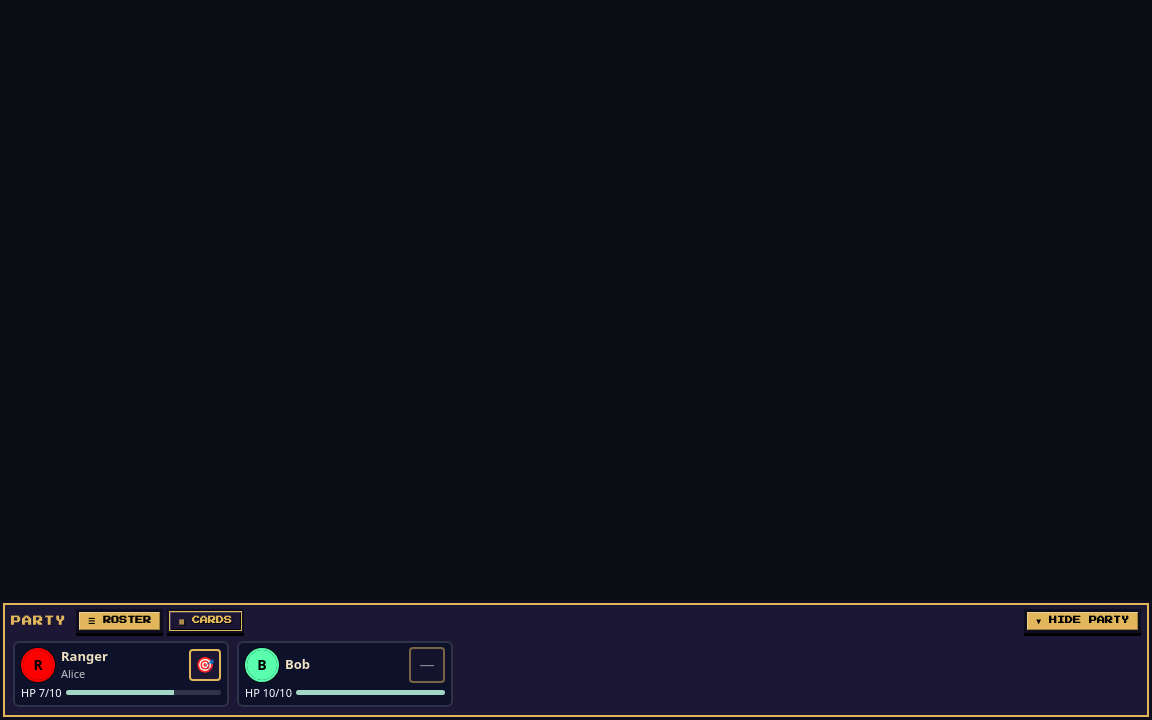
Scenario: EntitiesPanel roster — the DM's NPC equivalents › gets the DM-only token controls on a player's character
The width and height of the screenshot is (1152, 720).
Step 1. Click the button "R Ranger Alice" → (102, 664), box [21,646,183,682]
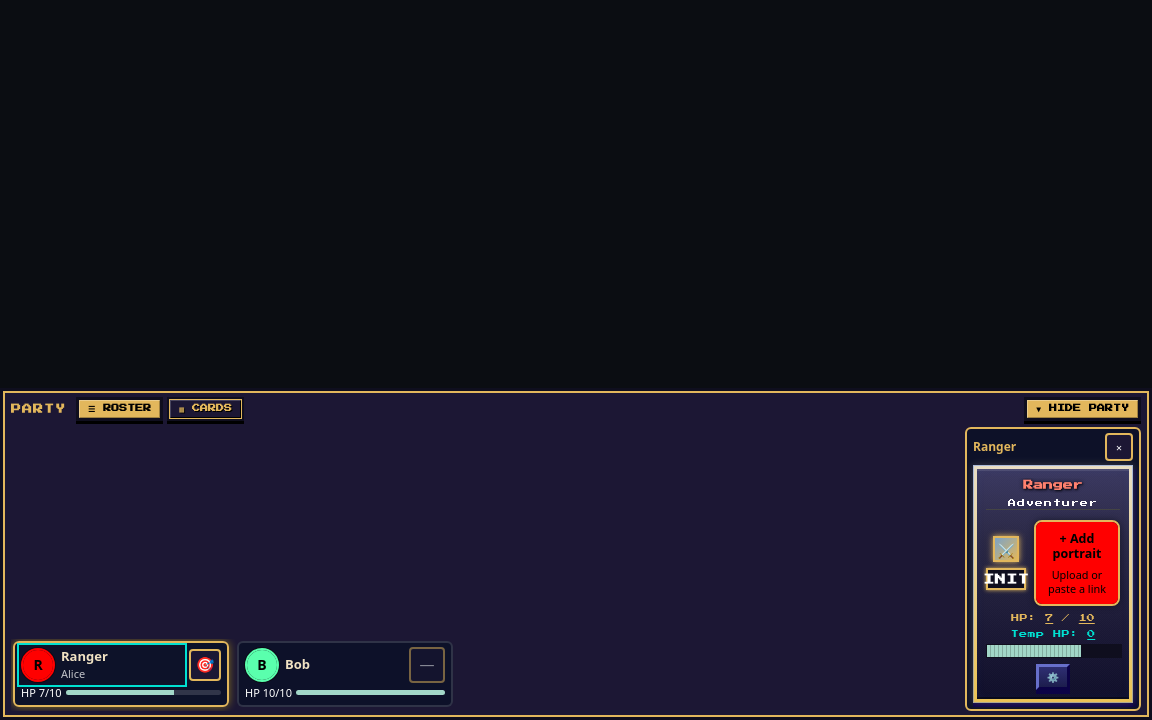
Step 2. Click the button named "Open player settings" → (1053, 677), box [1036,664,1070,690]
(page scrolled)
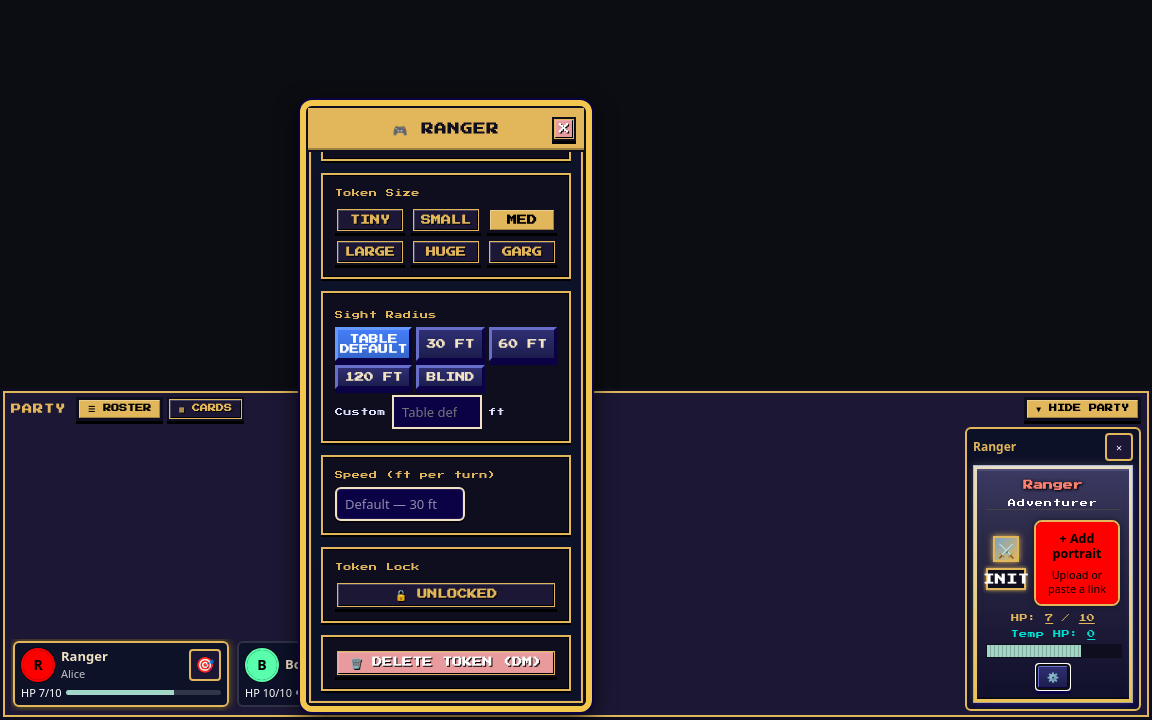
Expected: the text "Token Size" is shown, [335,189,420,197]
Expected: the number field named "Sight radius in feet" is shown, [392,395,482,429]
Expected: the number field named "Movement speed in feet per turn" is shown, [335,487,465,521]
